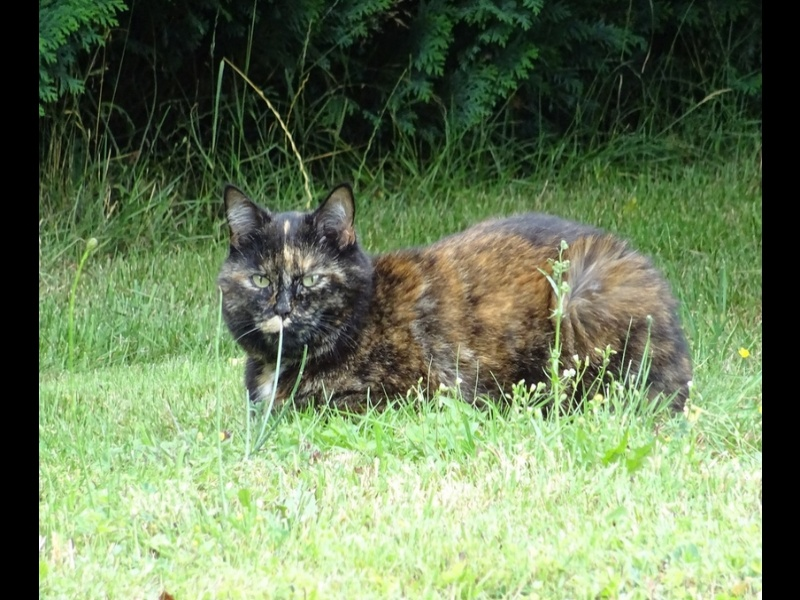cat: (214, 184, 697, 428)
